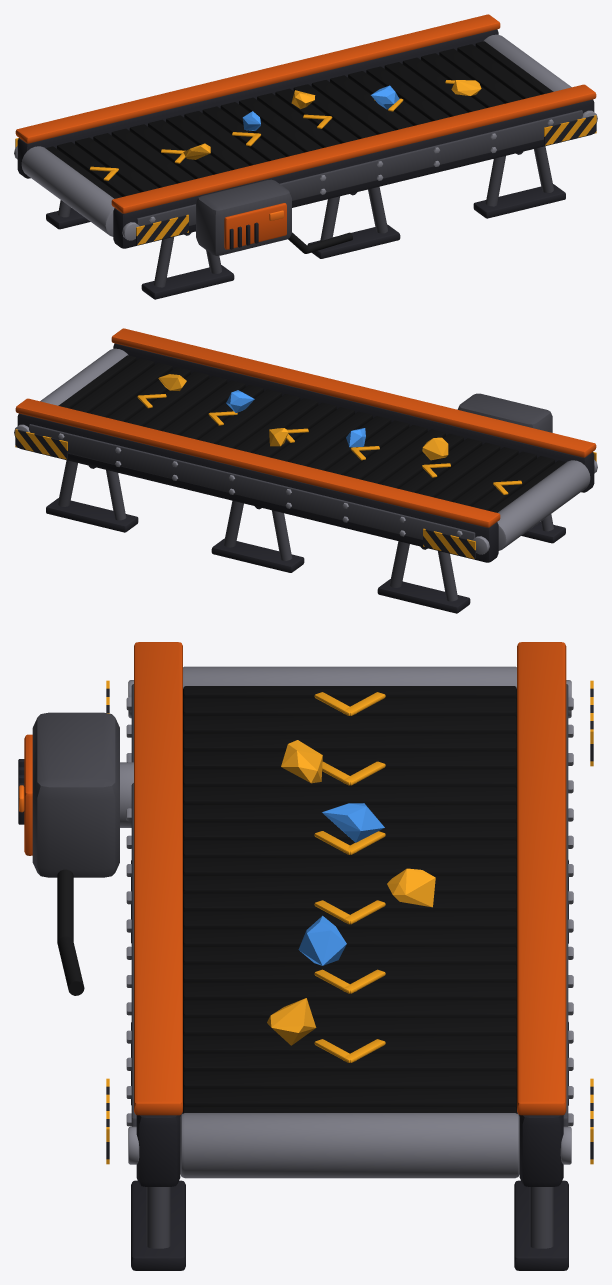
Rendered from Conveyor.obj.
The picture shows the model from 3 angles, top to bottom: view 1: azimuth 30°, elevation 25°; view 2: azimuth 150°, elevation 25°; view 3: azimuth 270°, elevation 25°; orthographic projection. The views are drawn at different scales.
Parts seen in each view (by area): view 1: Conveyor; view 2: Conveyor; view 3: Conveyor.
Part boxes in pixels (bbox=[...]): Conveyor: bbox=[14, 14, 597, 299]; Conveyor: bbox=[14, 328, 597, 613]; Conveyor: bbox=[18, 642, 593, 1270].
Bounding box in the file's own units: 2.05 × 0.4403 × 1.05.
